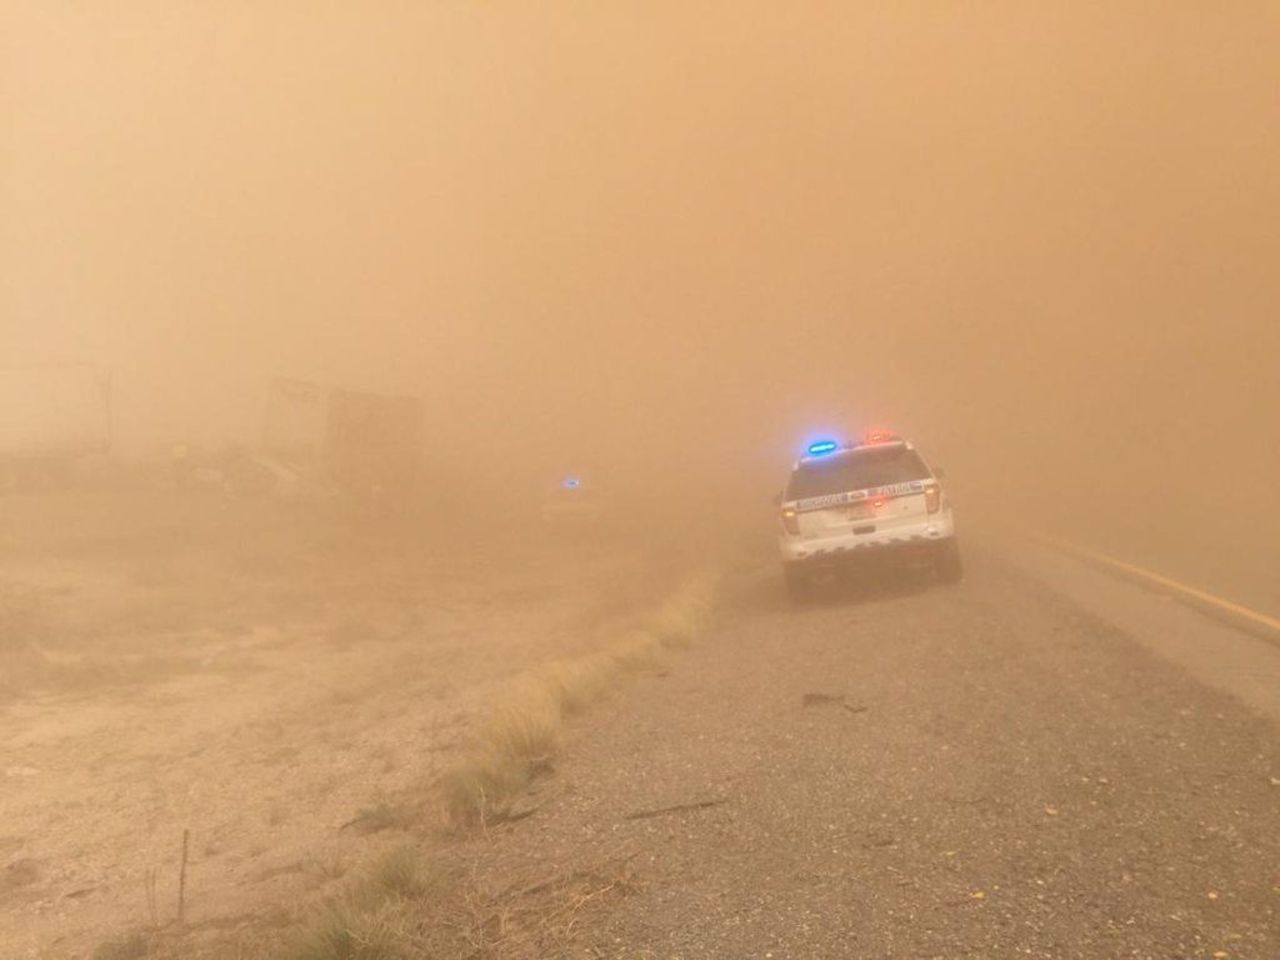car: (773, 430, 958, 600), (539, 466, 604, 531)
